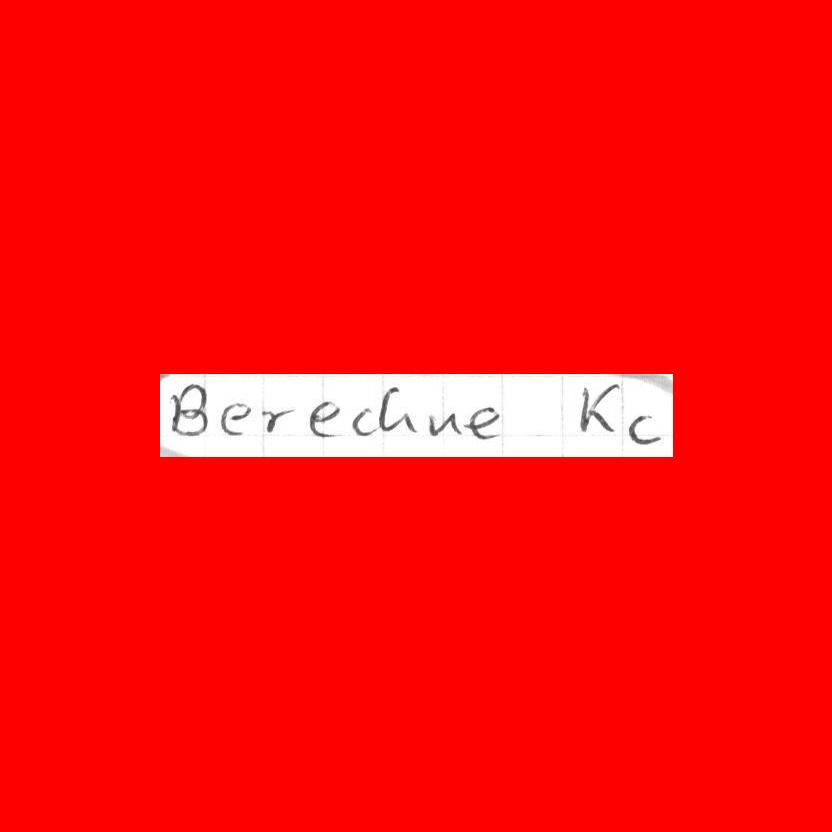Char: (577, 381, 622, 435), (167, 381, 210, 436), (378, 383, 420, 435), (306, 397, 343, 439), (461, 404, 503, 441), (626, 411, 663, 445), (218, 399, 252, 434), (258, 406, 297, 435), (425, 410, 465, 437), (348, 404, 377, 438)
